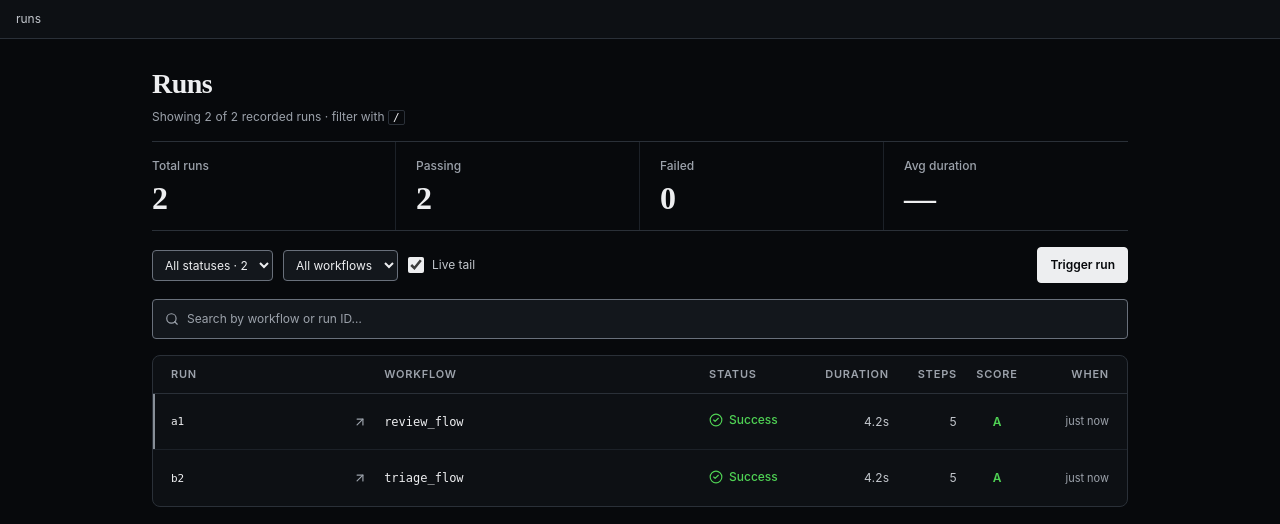
Test case: RunsPage › renders run rows and filters by query
Expected: the link "review_flow" is shown, x1=384 y1=414 x2=464 y2=430
Expected: the link "triage_flow" is shown, x1=384 y1=470 x2=464 y2=486
Type "triage" into the field named "Search runs by workflow name or run ID" at (651, 319), box x1=187 y1=300 x2=1115 y2=338
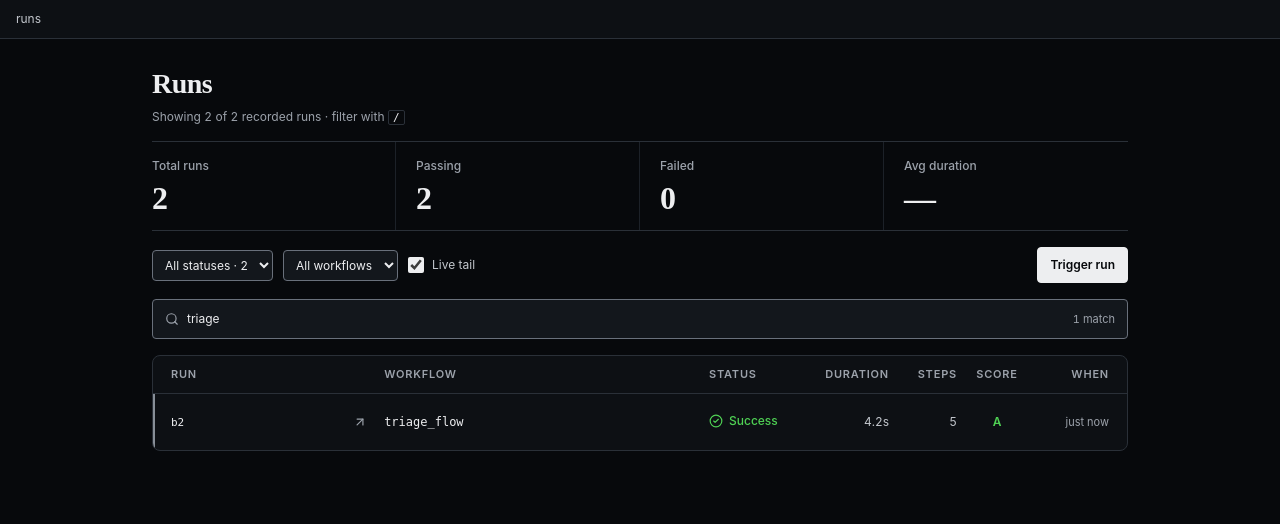
Expected: the link "triage_flow" is shown, x1=384 y1=414 x2=464 y2=430
Expected: the link "review_flow" is gone
